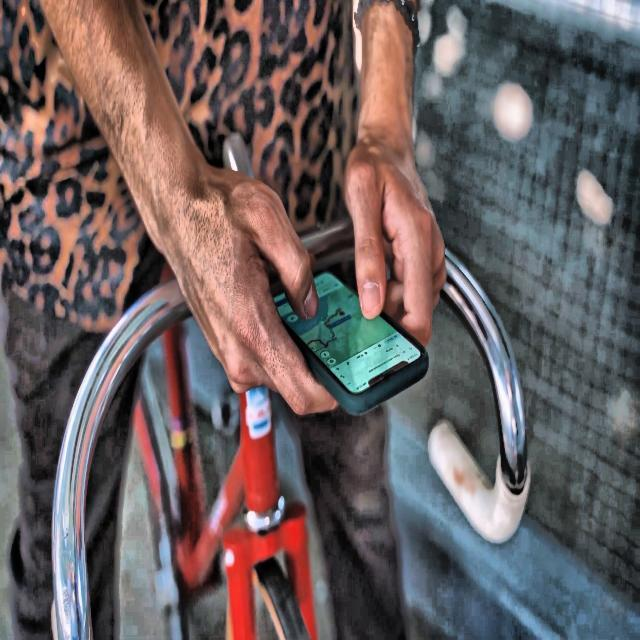Phone: (266, 261, 429, 418)
